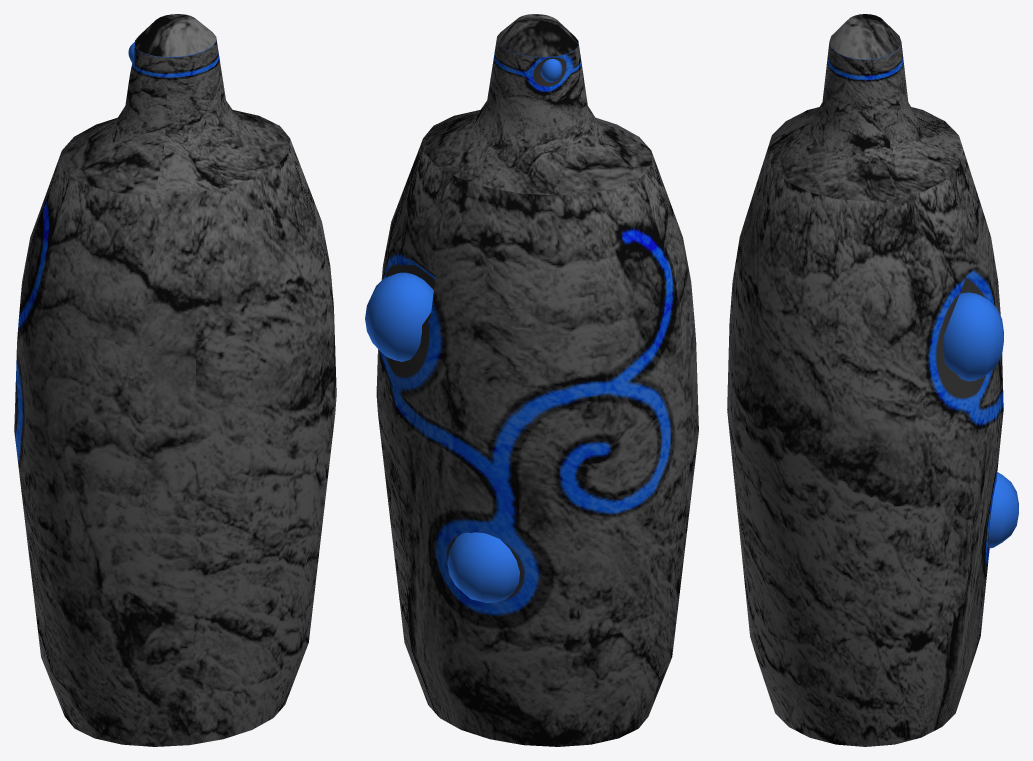
The model's file is obelisk.fbx.
3 views of the same model, side by side, from view 1: azimuth 30°, elevation 25°; view 2: azimuth 150°, elevation 25°; view 3: azimuth 270°, elevation 25° (orthographic).
Visible parts, largest first — view 1: polySurface224; view 2: polySurface224; view 3: polySurface224.
Boxes of the visible parts, bbox=[...] form: polySurface224: bbox=[14, 14, 336, 746]; polySurface224: bbox=[365, 14, 698, 746]; polySurface224: bbox=[727, 14, 1018, 746].
Bounding box in the file's own units: 71.05 × 158 × 61.73.
